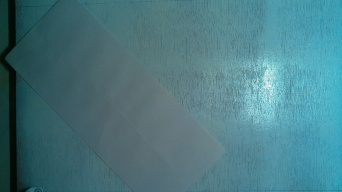l: (5, 1, 227, 192)
